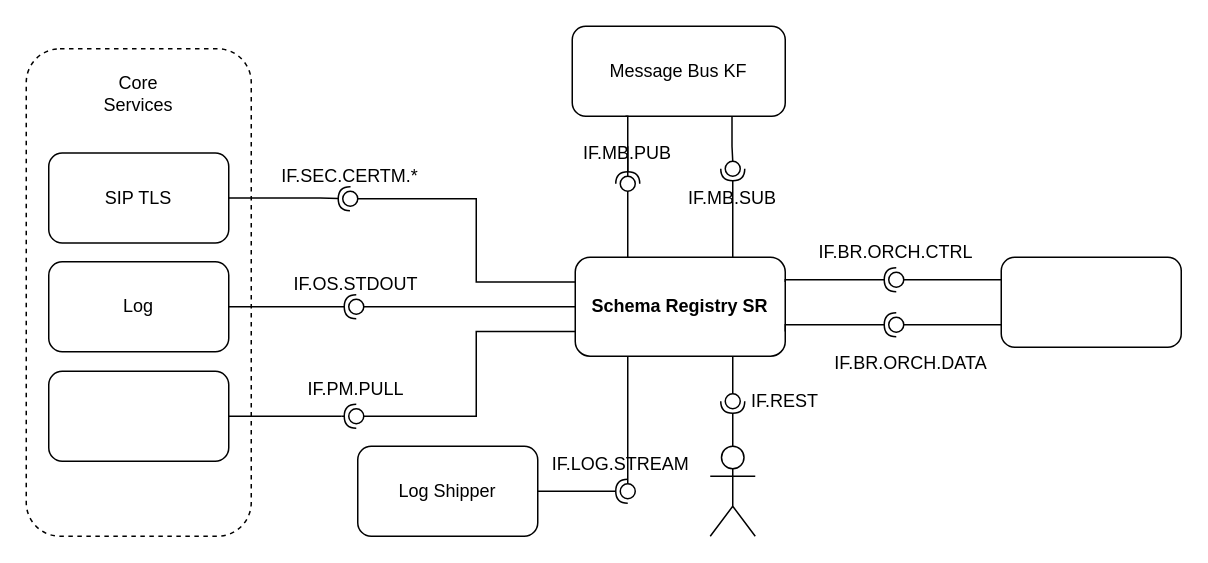
Image size: 1208x563. Some labels were removed from this diagram. Each missing label, with the centre of its shape:
"Backup Orchestrator (BRO)" goes at [1090,301].
"PM" goes at [138,415].
